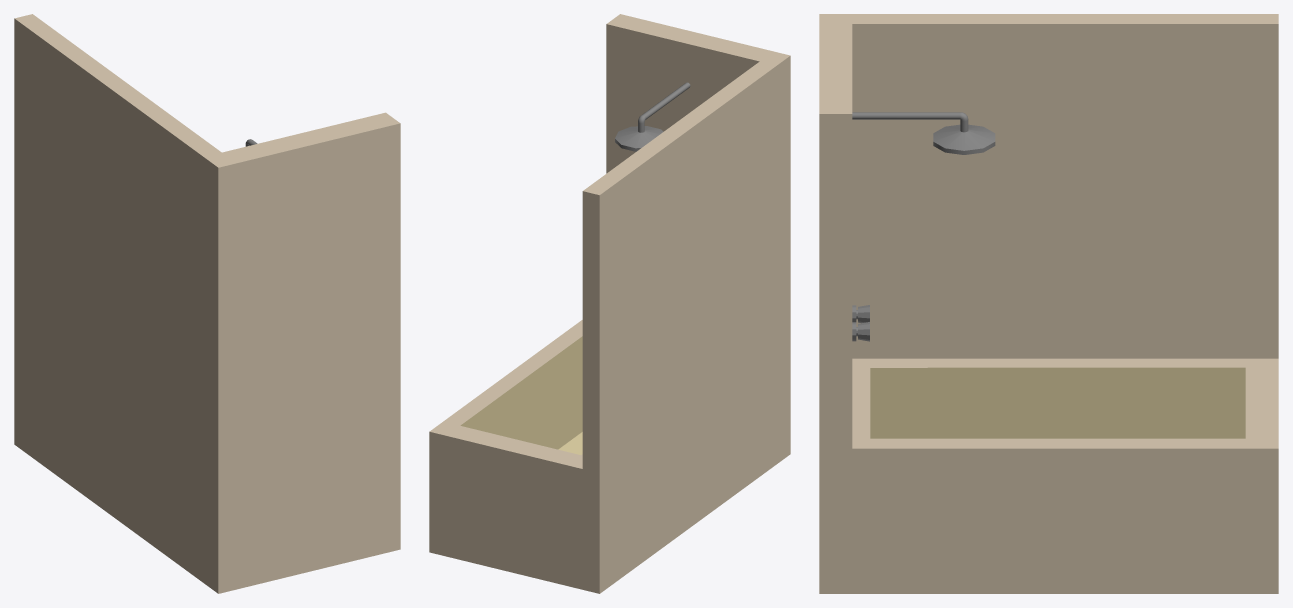
The model's file is Bathtub.obj.
The picture shows the model from 3 angles, left to right: view 1: azimuth 30°, elevation 25°; view 2: azimuth 150°, elevation 25°; view 3: azimuth 270°, elevation 25°; orthographic projection. The views are drawn at different scales.
Visible parts, largest first — view 1: Bathtub; view 2: Bathtub; view 3: Bathtub.
Boxes of the visible parts, x1,y1,x2,y2 form: Bathtub: [14, 14, 400, 593]; Bathtub: [429, 14, 790, 593]; Bathtub: [819, 14, 1278, 593].
Size of the model in its own units: 131 by 292 by 254.
